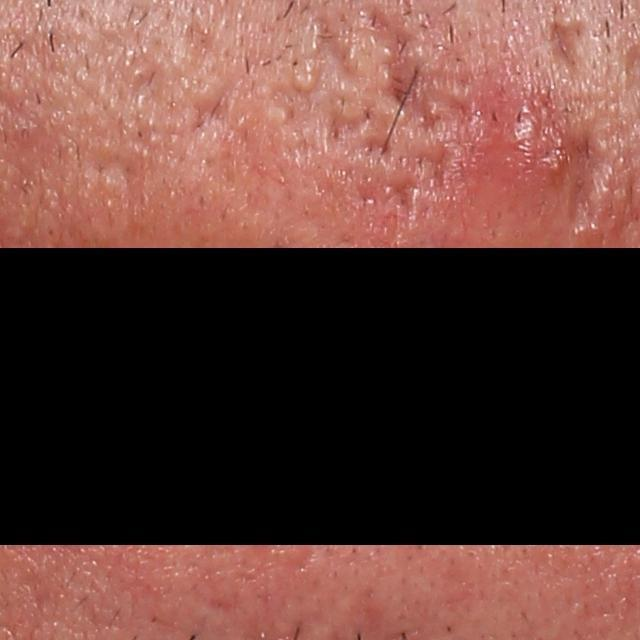atrophic_scar: (556, 127, 602, 237), (399, 66, 469, 138), (310, 11, 364, 85), (322, 93, 381, 157), (356, 175, 418, 219), (545, 19, 583, 78), (192, 93, 229, 133), (361, 137, 392, 157)
hypertrophic_scar: (291, 66, 320, 94), (267, 101, 298, 126)
